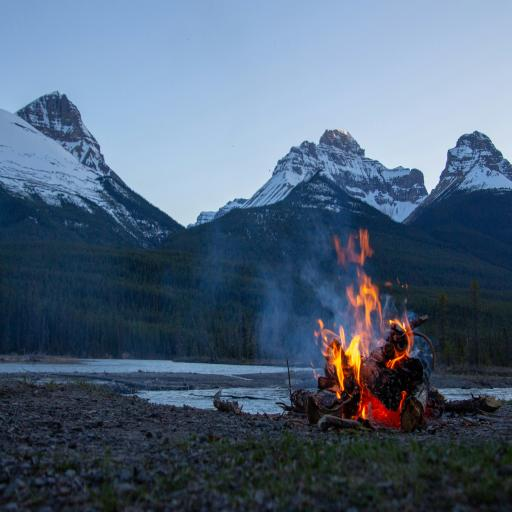campfire: (291, 189, 453, 462)
